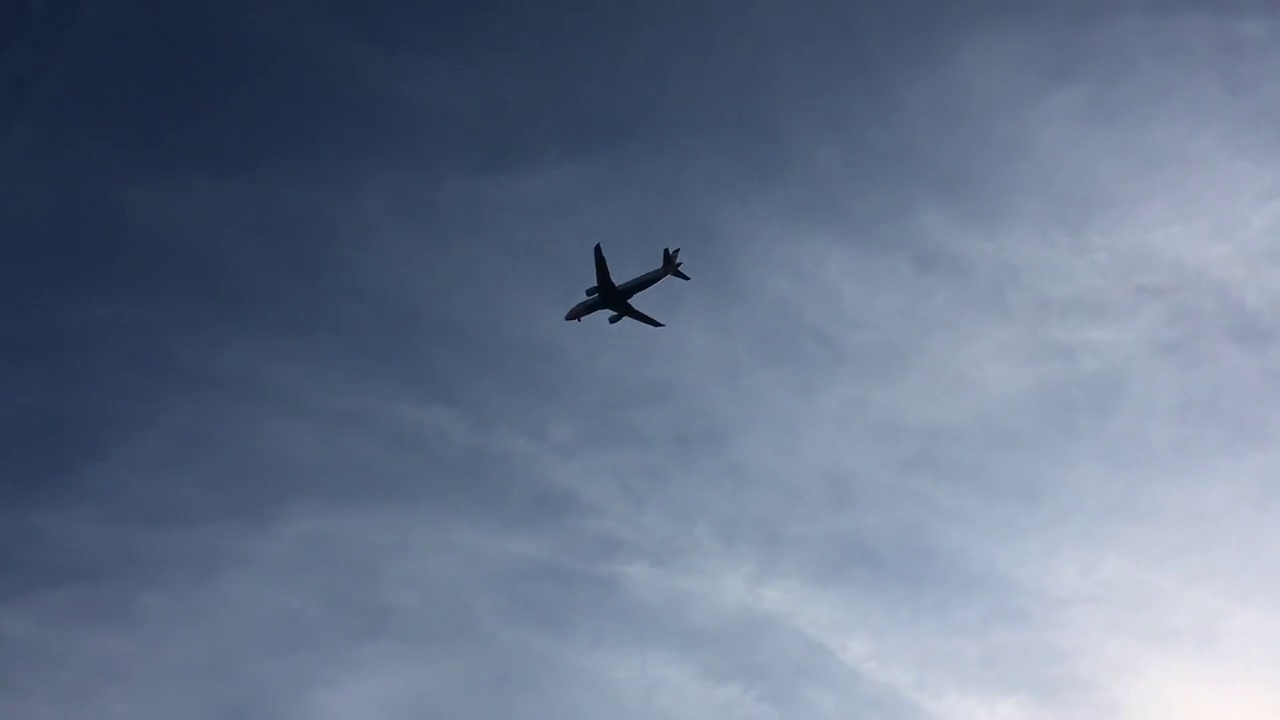plane: (562, 241, 690, 327)
